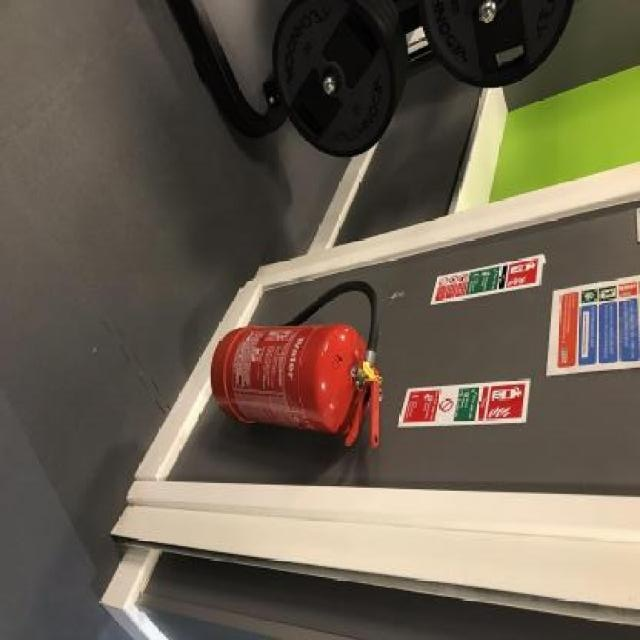fire extinguisher: (209, 278, 383, 450)
